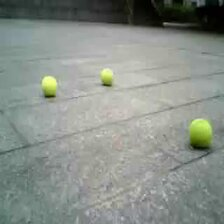tennis: (187, 118, 212, 147), (41, 74, 58, 96), (100, 68, 113, 84)
